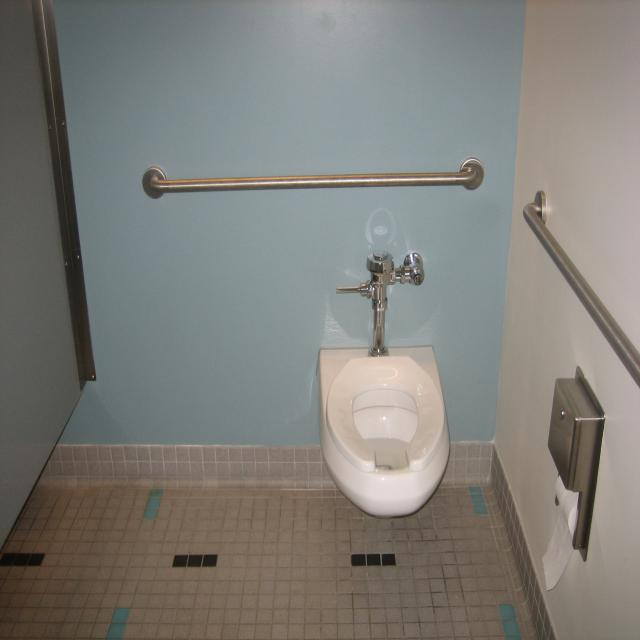toilet bowl: (318, 342, 449, 516)
